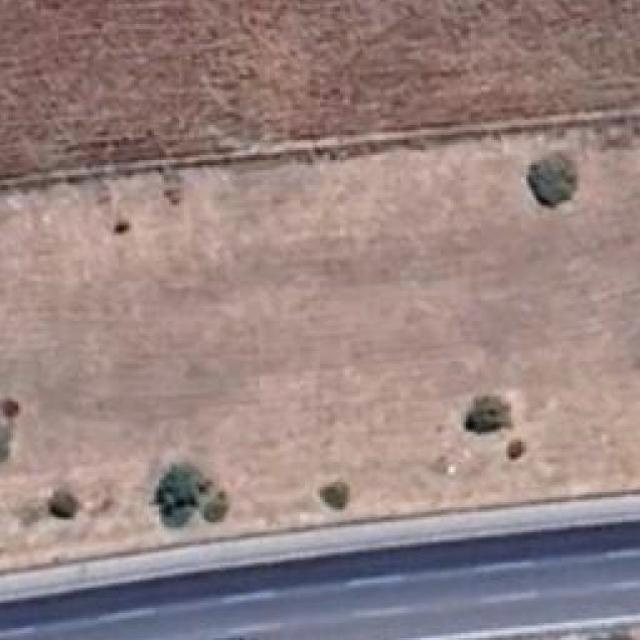Tree: (154, 467, 209, 525), (529, 153, 580, 205), (466, 394, 517, 442), (46, 492, 85, 525), (318, 475, 353, 509), (197, 492, 230, 525), (0, 392, 21, 418), (112, 216, 135, 238), (508, 440, 530, 462)
